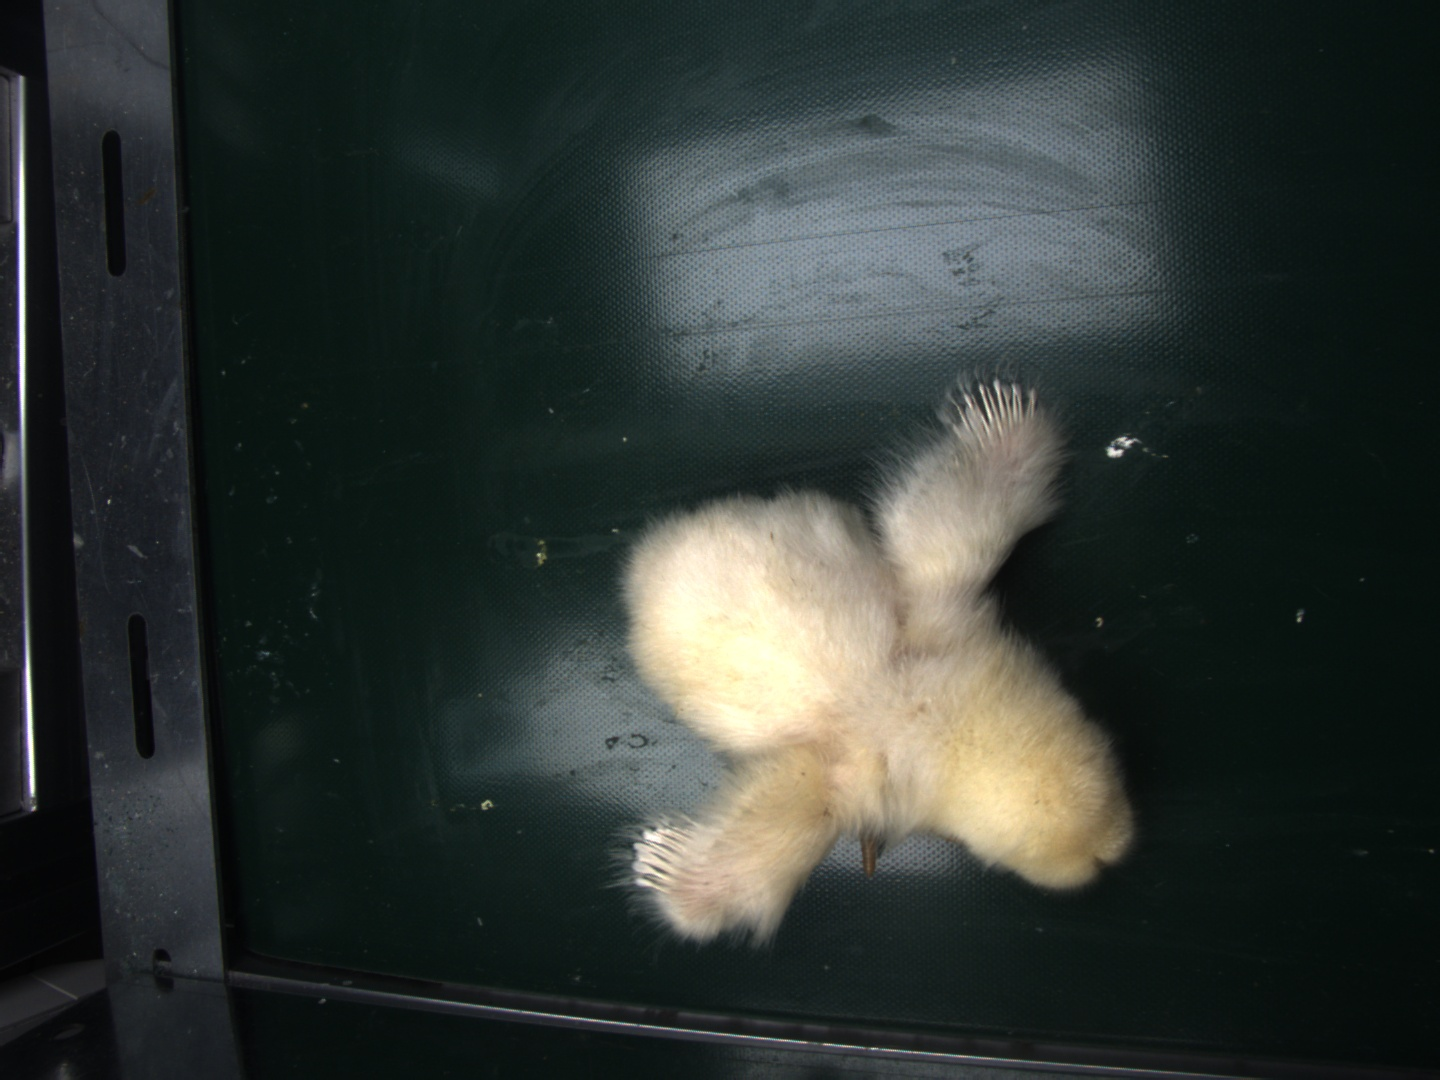male: (942, 369, 1035, 442), (644, 821, 698, 896)
